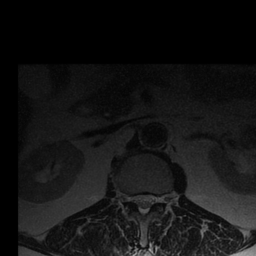CCS_normal: (140, 187, 146, 218)
LFS_normal: (154, 189, 161, 211)
LLS_normal: (147, 188, 154, 212)
RFS_stenosis: (125, 187, 133, 208)
RLS_normal: (133, 189, 140, 210)
